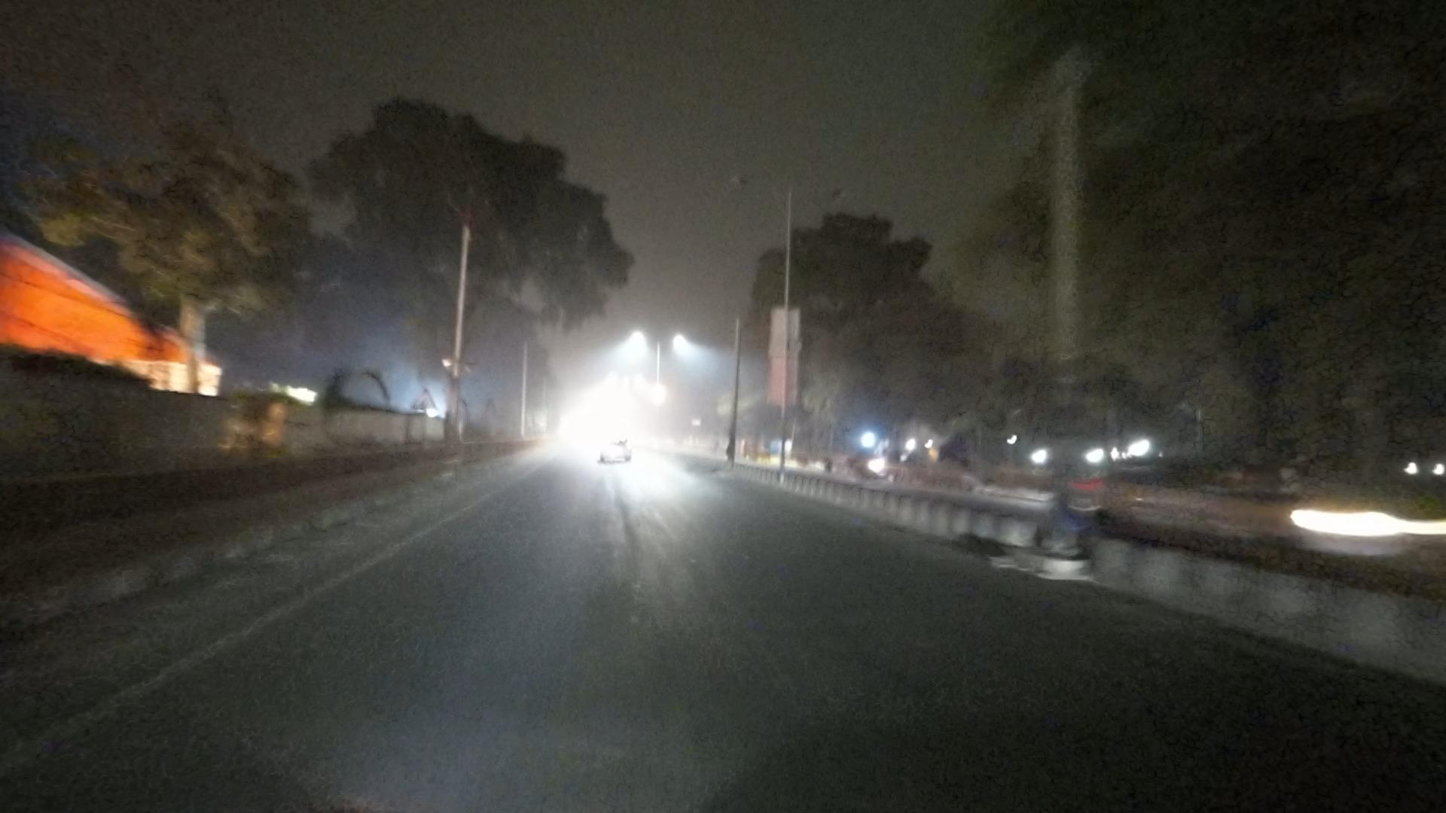streetlight: (728, 171, 787, 201), (795, 184, 846, 204)
